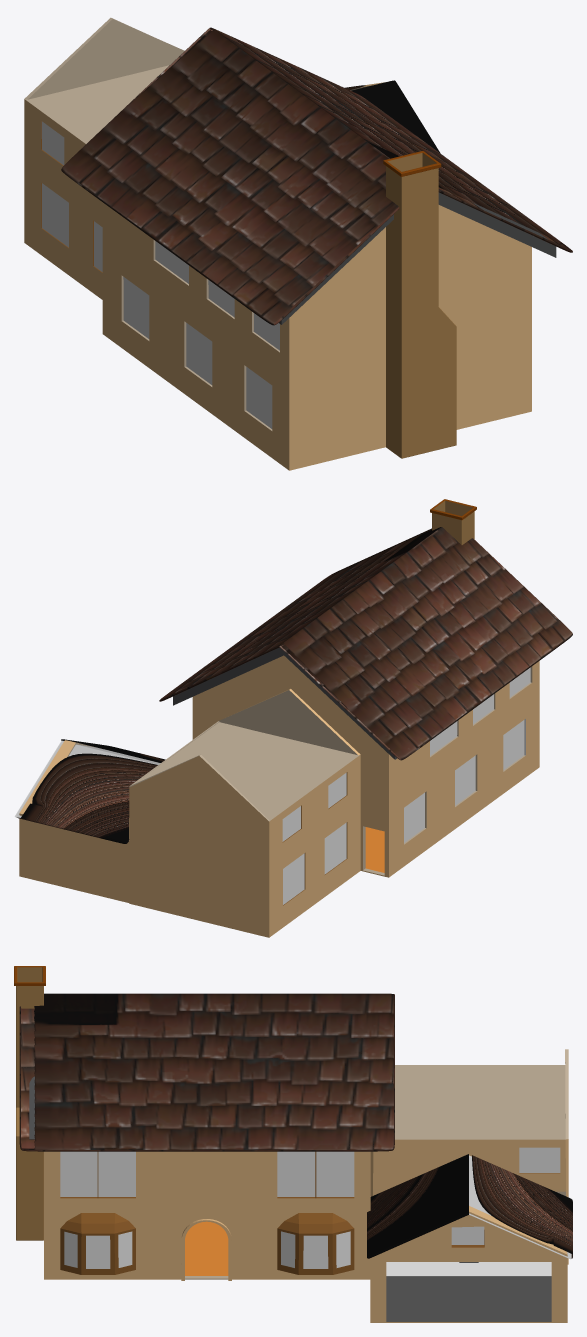
The model's file is home.fbx.
3 renders of one model, top to bottom at view 1: azimuth 30°, elevation 25°; view 2: azimuth 150°, elevation 25°; view 3: azimuth 270°, elevation 25°, orthographic. The views are drawn at different scales.
Visible parts, largest first — view 1: MainBuildingRoofUpper, MainBuilding, SideBuilding, Chimney, MainBuildingRoofLower, GarageRoof; view 2: SideBuilding, MainBuildingRoofUpper, MainBuilding, GarageRoof, Garage, MainBuildingRoofLower, Chimney; view 3: MainBuildingRoofUpper, MainBuilding, SideBuilding, Garage, GarageRoof, Chimney, GDoor.
Part boxes in pixels (x1,y1,x2,y2): MainBuildingRoofUpper: [61, 27, 572, 325]; MainBuilding: [102, 202, 531, 470]; SideBuilding: [24, 17, 184, 299]; Chimney: [383, 151, 456, 458]; MainBuildingRoofLower: [279, 192, 556, 324]; GarageRoof: [345, 80, 440, 153]; SideBuilding: [129, 689, 360, 937]; MainBuildingRoofUpper: [159, 527, 572, 760]; MainBuilding: [192, 655, 539, 877]; GarageRoof: [14, 739, 165, 843]; Garage: [19, 740, 129, 902]; MainBuildingRoofLower: [173, 647, 396, 759]; Chimney: [430, 499, 476, 544]; MainBuildingRoofUpper: [19, 993, 394, 1151]; MainBuilding: [44, 1151, 370, 1280]; SideBuilding: [370, 1049, 568, 1264]; Garage: [370, 1196, 567, 1322]; GarageRoof: [367, 1154, 572, 1259]; Chimney: [14, 966, 45, 1240]; GDoor: [386, 1262, 551, 1276].
Bounding box in the file's own units: 1408 × 1018 × 2056.
